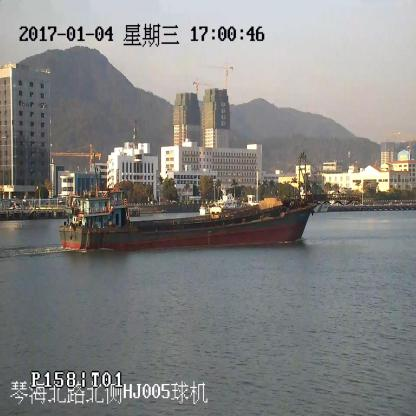Bulk Carrier: (59, 155, 352, 251)
